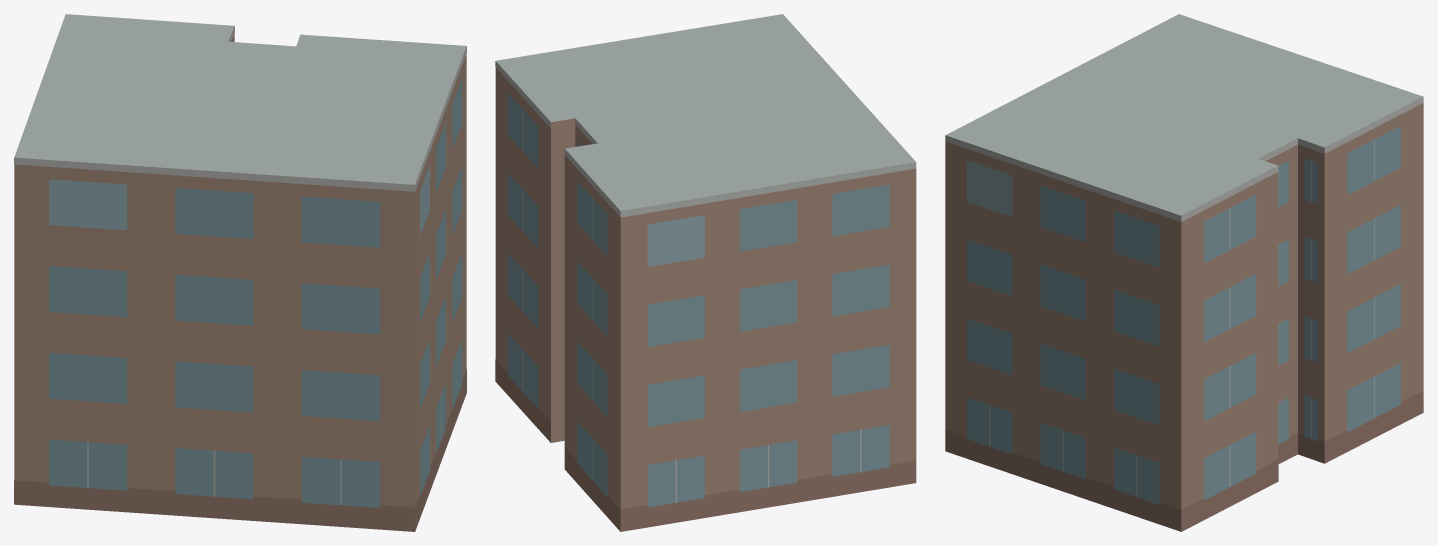
The model's file is survey-upis-32910856.glb.
The picture shows the model from 3 angles, left to right: view 1: azimuth 30°, elevation 25°; view 2: azimuth 150°, elevation 25°; view 3: azimuth 270°, elevation 25°; orthographic projection. The views are drawn at different scales.
Visible parts, largest first — view 1: survey-upis-32910856.tmp; view 2: survey-upis-32910856.tmp; view 3: survey-upis-32910856.tmp.
Part boxes in pixels (bbox=[...]): survey-upis-32910856.tmp: bbox=[14, 14, 466, 531]; survey-upis-32910856.tmp: bbox=[495, 14, 916, 531]; survey-upis-32910856.tmp: bbox=[945, 14, 1423, 531].
Bounding box in the file's own units: 16.95 × 12.37 × 16.97.
